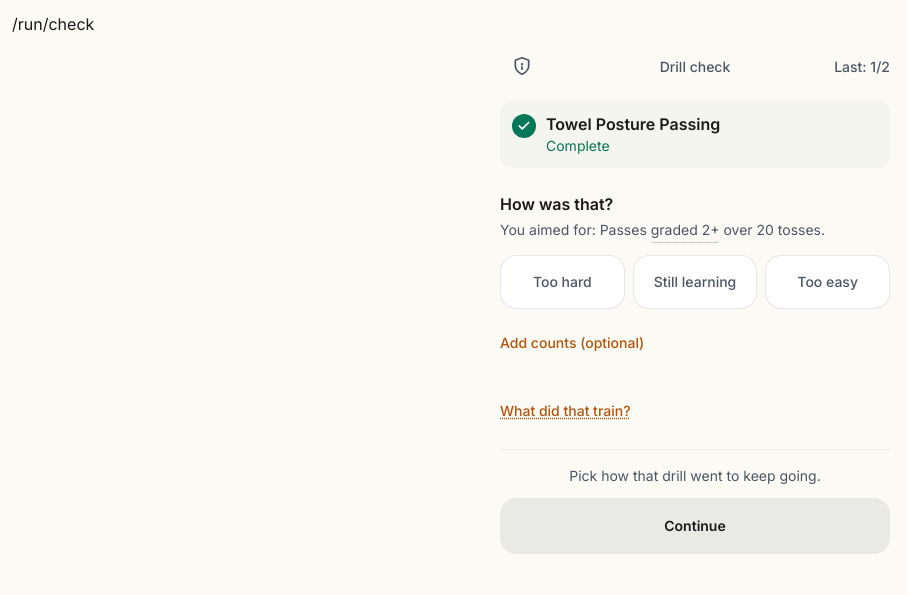
Test case: DrillCheckScreen per-drill capture (Item 9 / D133) › stays on Drill Check and shows an error when a pending capture save rejects
Expected: the element with test id "per-drill-capture" is shown, [500,192,890,365]
Click the radio button labelled "Still learning".
click(695, 282)  # box [633,255,757,309]
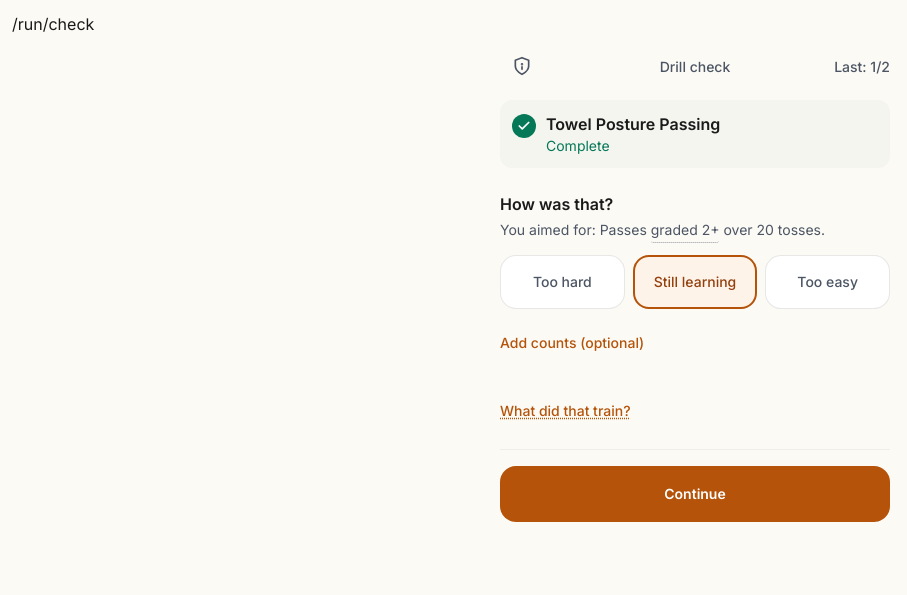
Click the button "Continue".
click(695, 494)  # box [500,466,890,522]
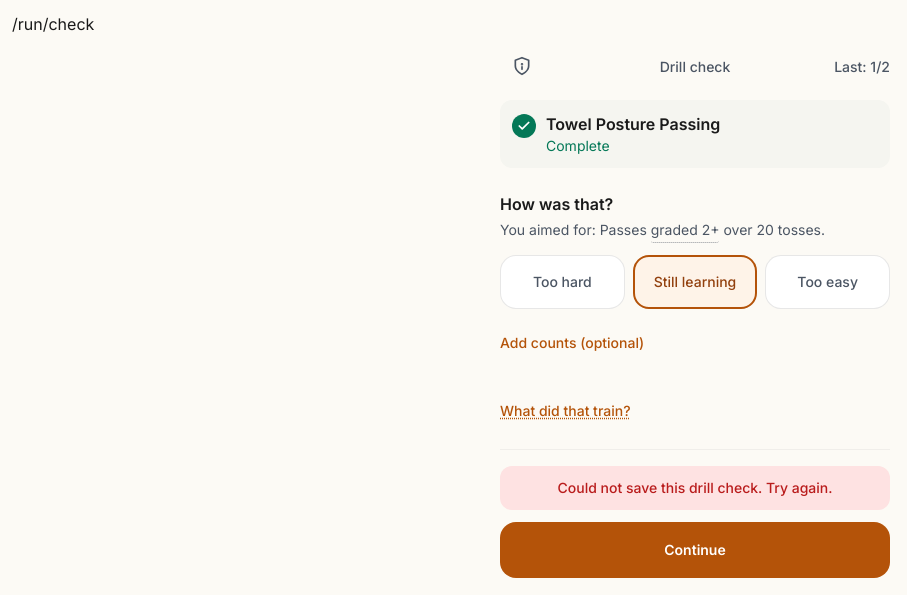
Expected: the text with test id "route-probe" reads "/run/check", [12,14,94,34]
Now the text "Could not save this drill check. Try again." is shown, box [500,466,890,510]
